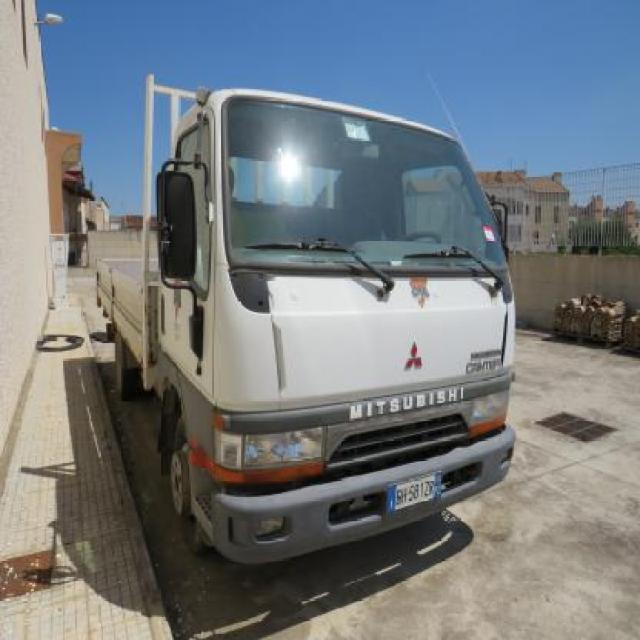truck: (96, 75, 517, 564)
